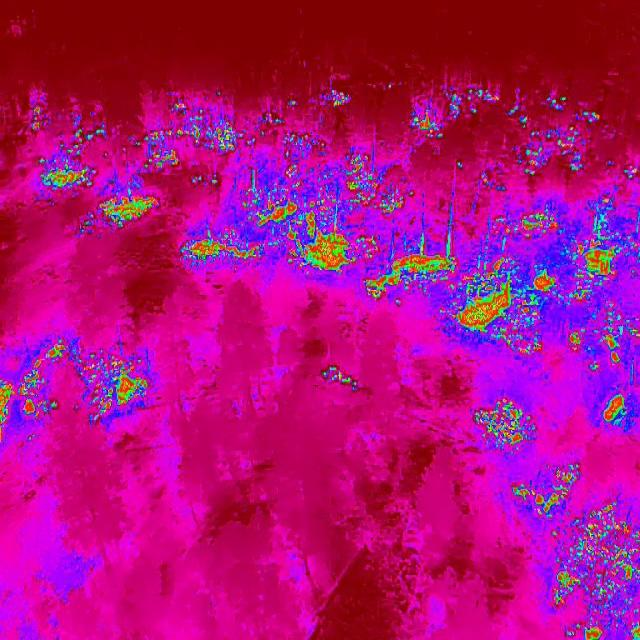fire: (244, 155, 453, 305), (451, 259, 591, 360), (553, 501, 640, 640), (137, 93, 255, 185), (513, 88, 611, 188), (70, 338, 152, 430), (0, 335, 69, 434), (32, 116, 110, 202), (508, 461, 586, 522), (484, 196, 567, 252), (585, 301, 640, 375), (256, 111, 334, 161), (178, 232, 268, 272), (474, 394, 538, 450), (94, 186, 160, 232), (596, 149, 640, 210), (583, 236, 624, 286), (450, 82, 502, 120), (322, 354, 368, 395), (405, 94, 443, 135), (310, 84, 355, 114), (601, 388, 630, 434), (506, 88, 536, 131), (27, 100, 48, 138), (212, 90, 228, 101)
